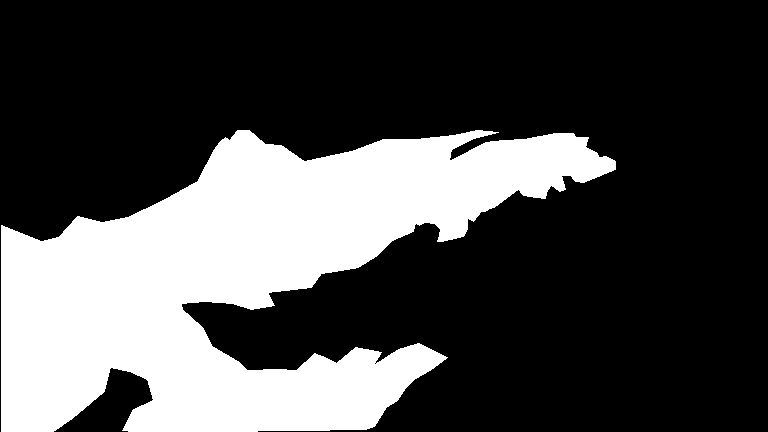Fire: (282, 124, 615, 253)
